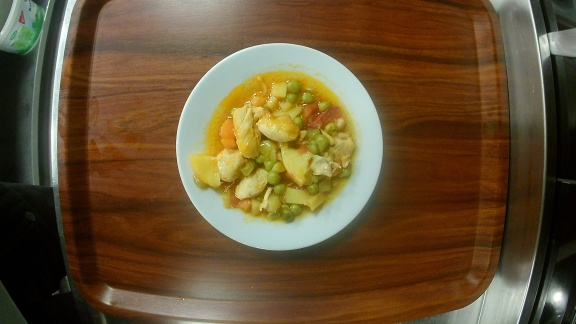bezelyelitavuk: (173, 42, 386, 253)
